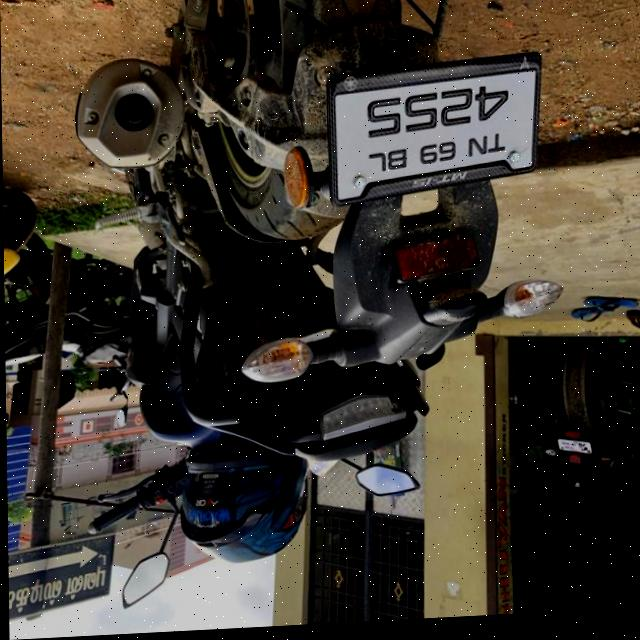plate: (327, 58, 544, 211), (548, 442, 598, 464)
